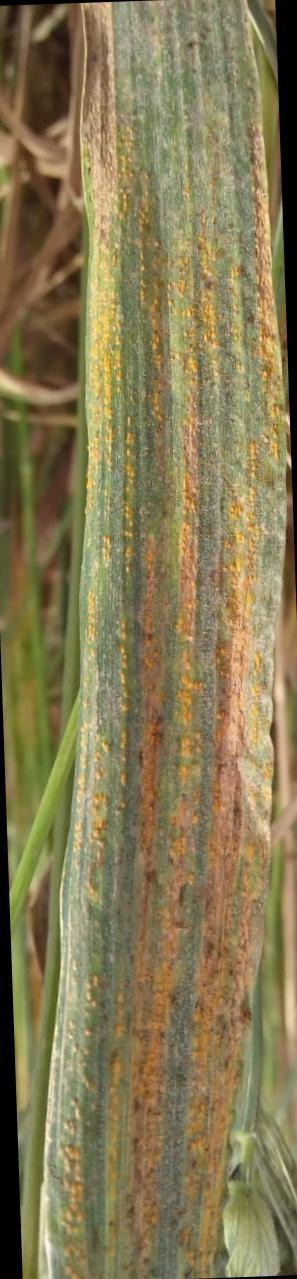Wheat: (94, 30, 236, 1279)
